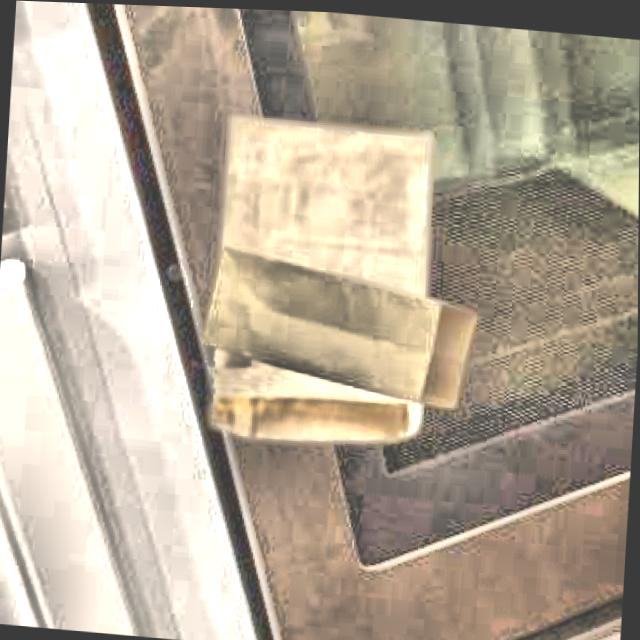Paper-bag: (181, 96, 448, 460), (178, 237, 491, 411)
